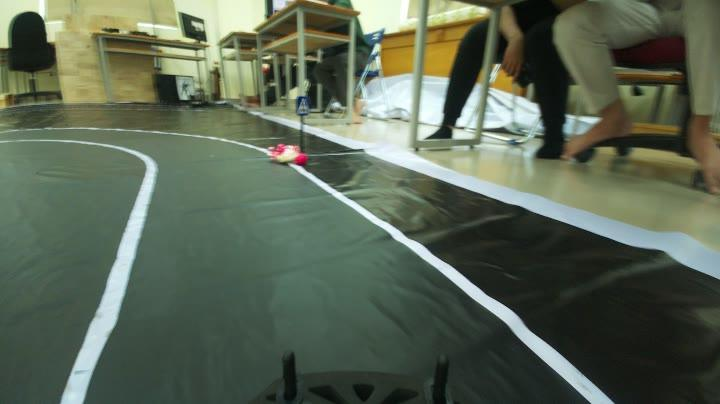crosswalk: (294, 93, 314, 119)
